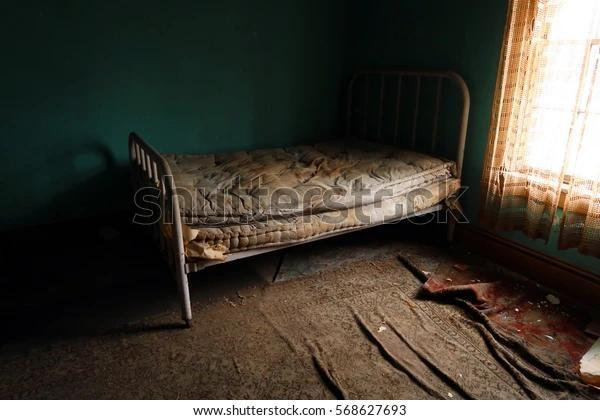Bed-Mattress: (142, 132, 464, 265)
